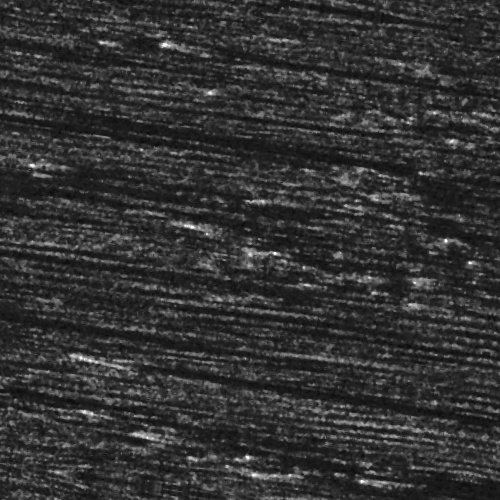object: (201, 192, 346, 203), (156, 227, 229, 236), (86, 375, 169, 382), (31, 190, 94, 199), (410, 245, 473, 254), (0, 218, 7, 223)
shadow: (0, 338, 182, 361), (128, 375, 500, 382), (274, 192, 500, 203), (0, 150, 442, 155), (0, 284, 400, 289), (193, 227, 360, 236), (0, 218, 297, 223), (63, 190, 226, 199), (0, 77, 252, 82), (441, 245, 500, 254), (0, 391, 45, 398), (0, 243, 41, 248)
